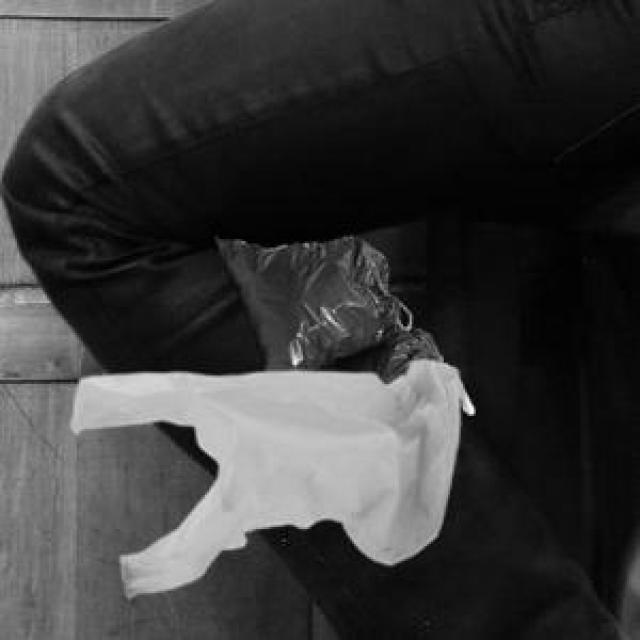miscellaneous trash: (213, 233, 469, 410)
